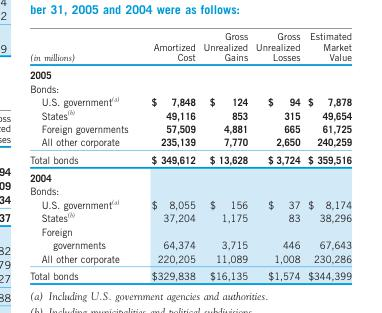table: (29, 29, 351, 281)
table column: (29, 29, 139, 281), (139, 29, 198, 281), (250, 29, 303, 281), (198, 29, 250, 281), (303, 29, 351, 281)
table column header: (29, 29, 351, 65)
table projected row header: (29, 65, 351, 81), (29, 168, 351, 184), (29, 81, 351, 94), (29, 184, 351, 196)
table row: (29, 29, 351, 65), (29, 224, 351, 251), (29, 150, 351, 168), (29, 65, 351, 81), (29, 134, 351, 150), (29, 168, 351, 184), (29, 251, 351, 266), (29, 266, 351, 281), (29, 107, 351, 121), (29, 196, 351, 210), (29, 210, 351, 224), (29, 81, 351, 94), (29, 94, 351, 107), (29, 121, 351, 134), (29, 184, 351, 196)
